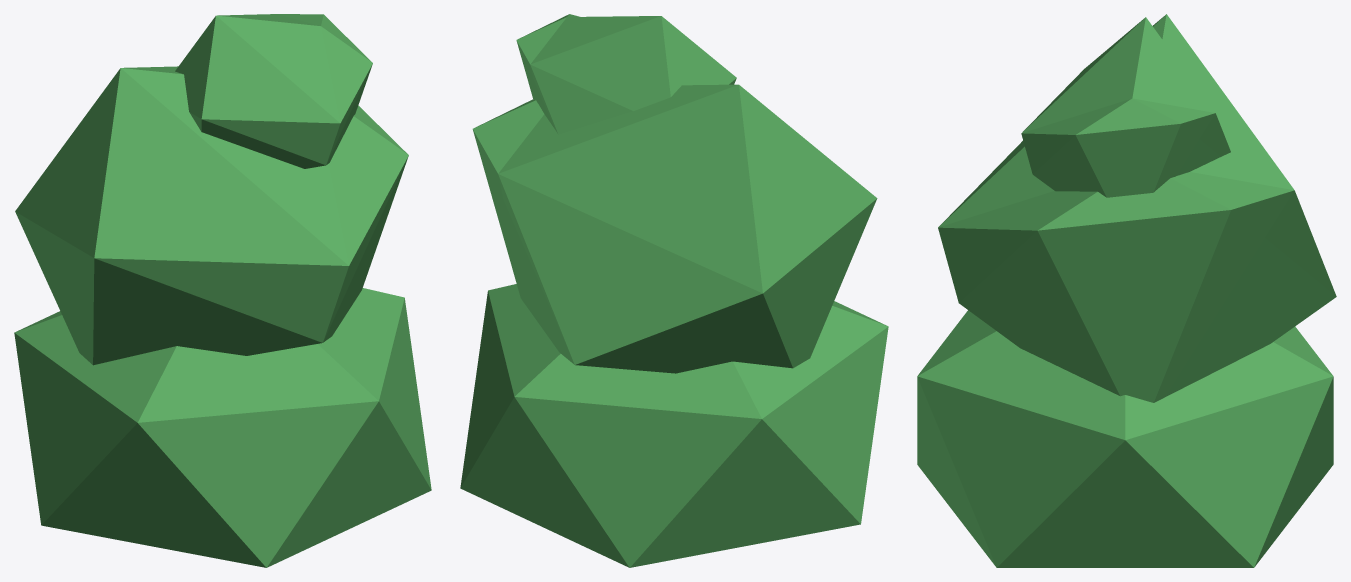
Rendered from STA_Project_Vegetations_Bush_V1.fbx.
3 views of the same model, side by side, from view 1: azimuth 30°, elevation 25°; view 2: azimuth 150°, elevation 25°; view 3: azimuth 270°, elevation 25° (orthographic). The views are drawn at different scales.
Visible parts, largest first — view 1: Bush_V1; view 2: Bush_V1; view 3: Bush_V1.
Part boxes in pixels (x1=…): Bush_V1: x1=14, y1=14, x2=431, y2=567; Bush_V1: x1=460, y1=14, x2=888, y2=567; Bush_V1: x1=917, y1=14, x2=1336, y2=567.
Bounding box in the file's own units: 312 × 397 × 299.
1 material, 1 textured.
